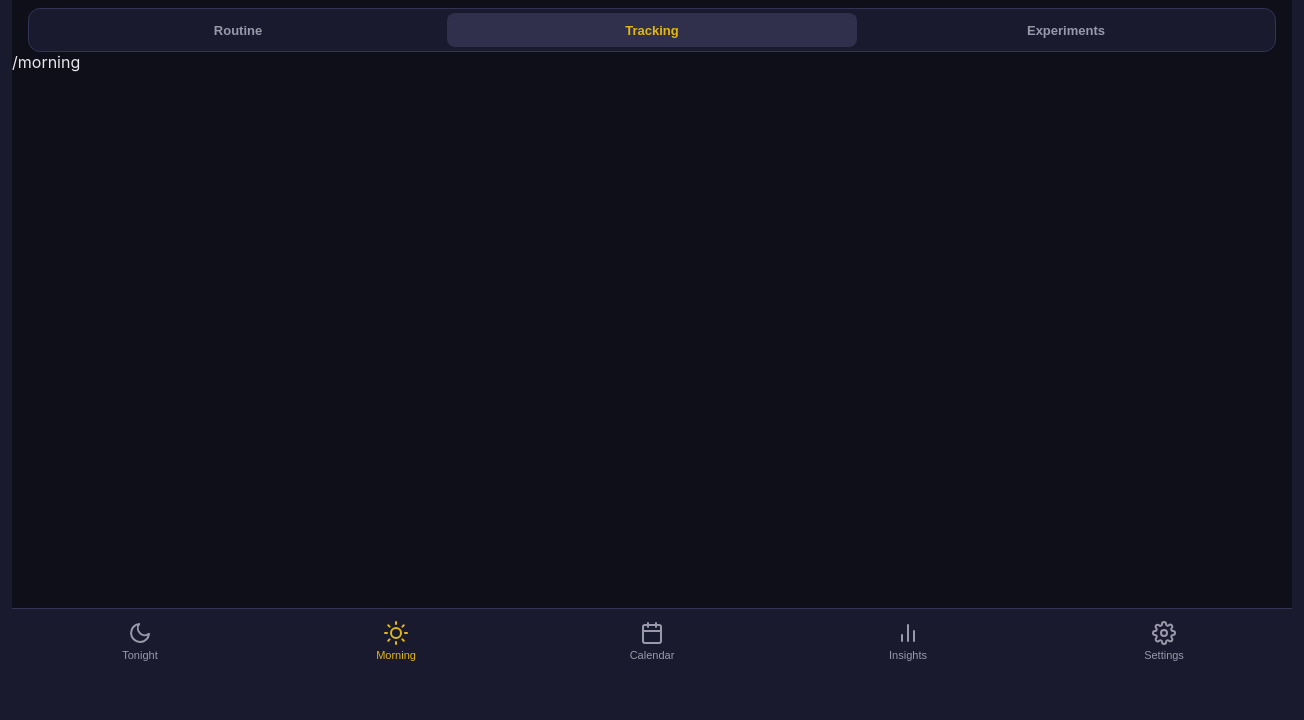
Test: app shell › switching to Experiments navigates to its home and swaps the tabs
The image size is (1304, 720).
Click the button "Experiments". click: point(1066, 30)
box: [861,13,1271,47]
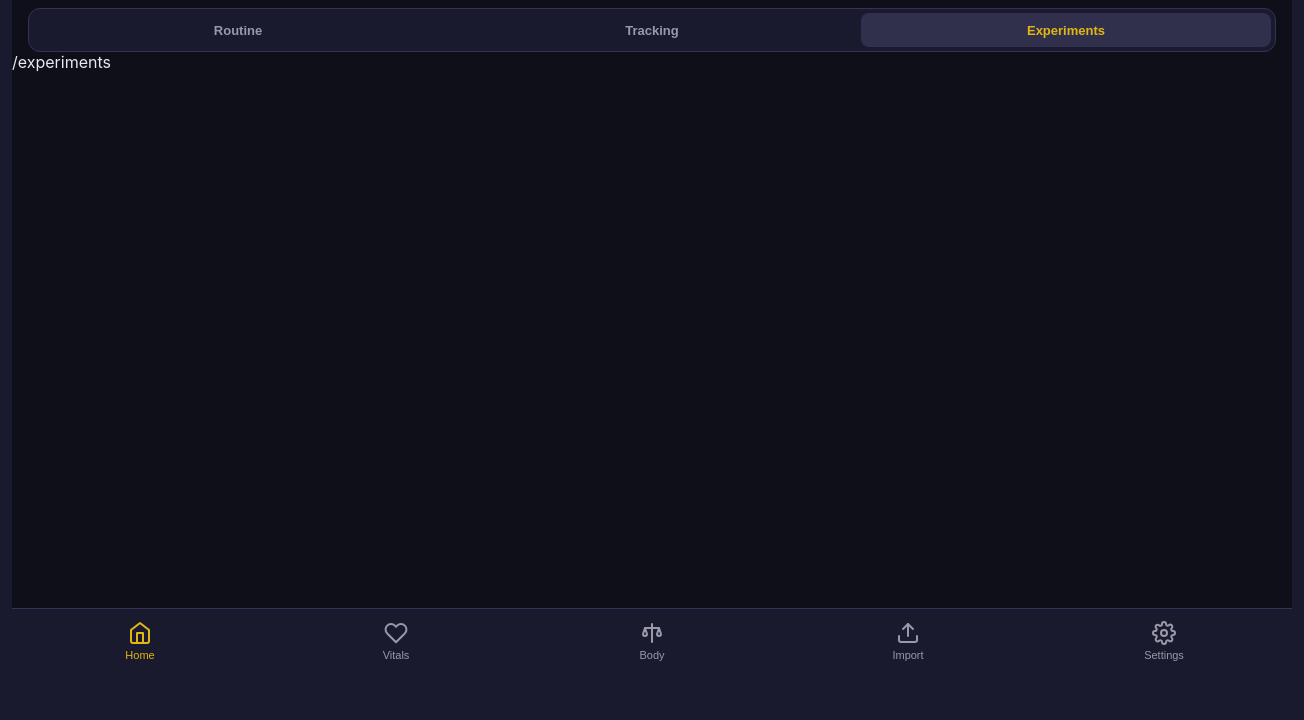
Now the text with test id "loc" reads "/experiments", box [12,52,111,72]
